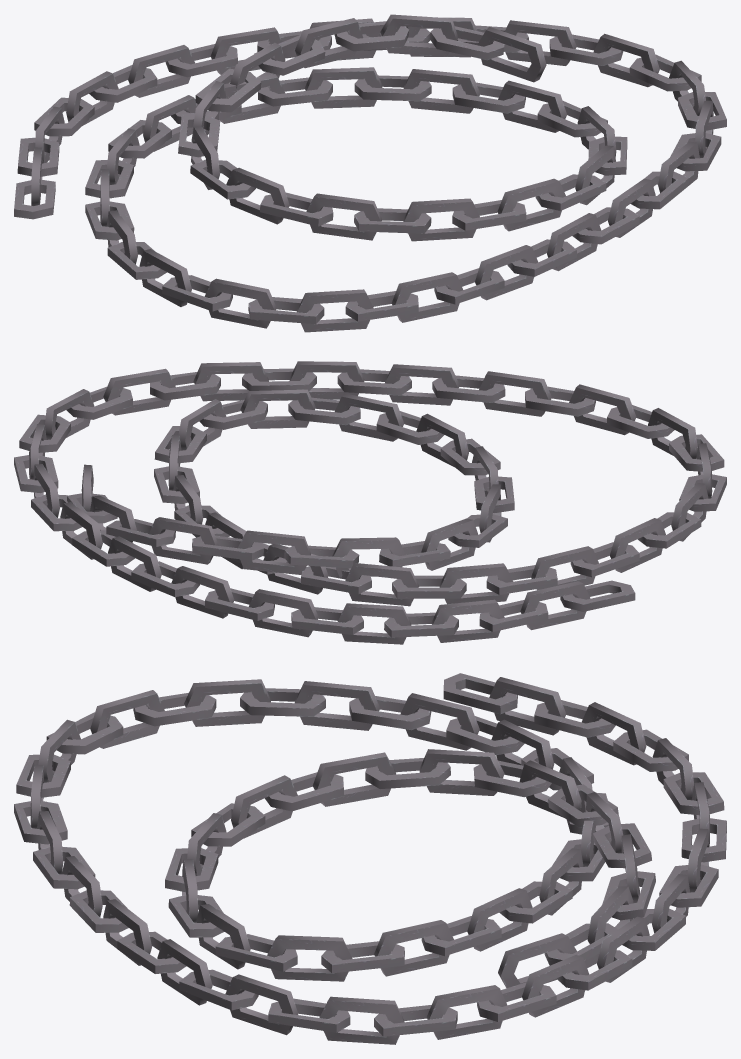
File: Chain_Coil.gltf
3 renders of one model, top to bottom at view 1: azimuth 30°, elevation 25°; view 2: azimuth 150°, elevation 25°; view 3: azimuth 270°, elevation 25°, orthographic. The views are drawn at different scales.
Parts seen in each view (by area): view 1: Chain_Coil; view 2: Chain_Coil; view 3: Chain_Coil.
Boxes of the visible parts, x1,y1,x2,y2 form: Chain_Coil: [14, 14, 726, 332]; Chain_Coil: [14, 361, 726, 644]; Chain_Coil: [14, 673, 726, 1044].
Bounding box in the file's own units: 1.07 × 0.0872 × 0.9077.
Materials: 1 (1 with a texture image).
